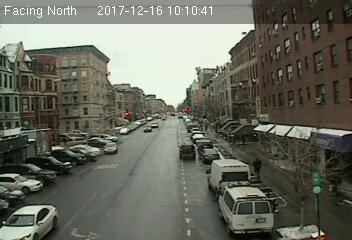car: (1, 201, 57, 240), (200, 149, 220, 162), (179, 142, 196, 157), (103, 143, 118, 153)
pedestrian: (253, 156, 263, 181)
police: (216, 180, 275, 236)
truck: (205, 158, 252, 195)
